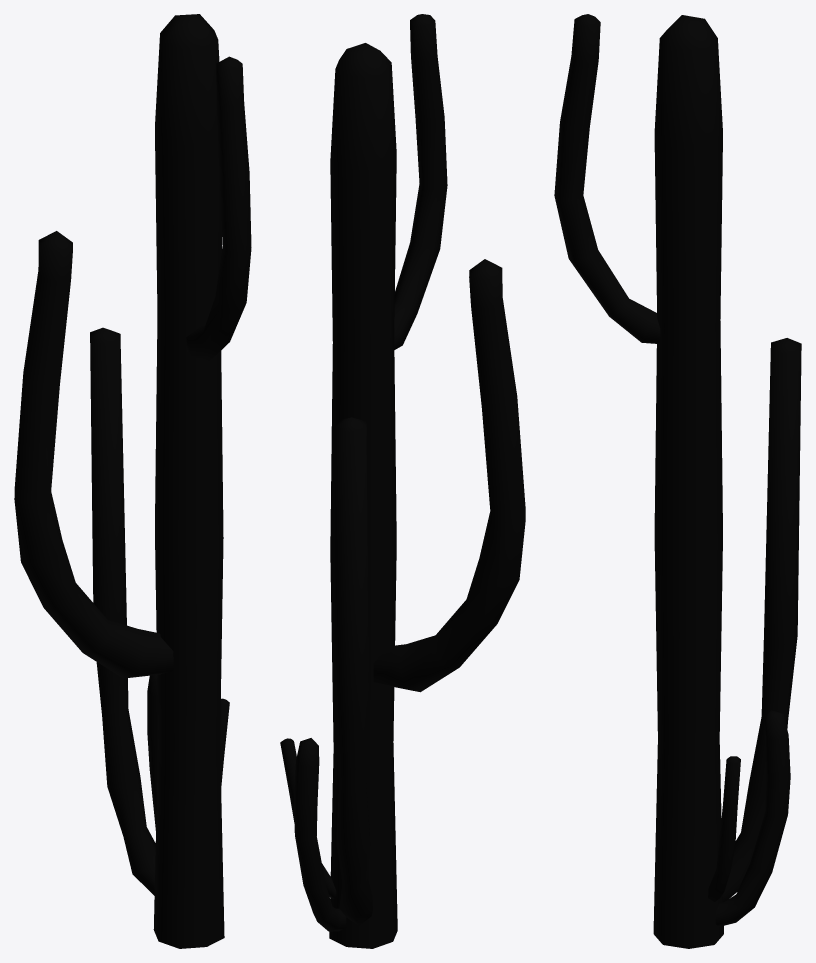
Rendered from cactus_2.glb.
3 renders of one model, left to right at view 1: azimuth 30°, elevation 25°; view 2: azimuth 150°, elevation 25°; view 3: azimuth 270°, elevation 25°, orthographic. The views are drawn at different scales.
Parts seen in each view (by area): view 1: Cactus_2; view 2: Cactus_2; view 3: Cactus_2.
Boxes of the visible parts, <box> form: Cactus_2: <box>14,14,251,948</box>; Cactus_2: <box>280,14,525,948</box>; Cactus_2: <box>554,14,801,948</box>.
Size of the model in its own units: 0.6846 by 2.58 by 0.6304.
Materials: 1 (1 with a texture image).
